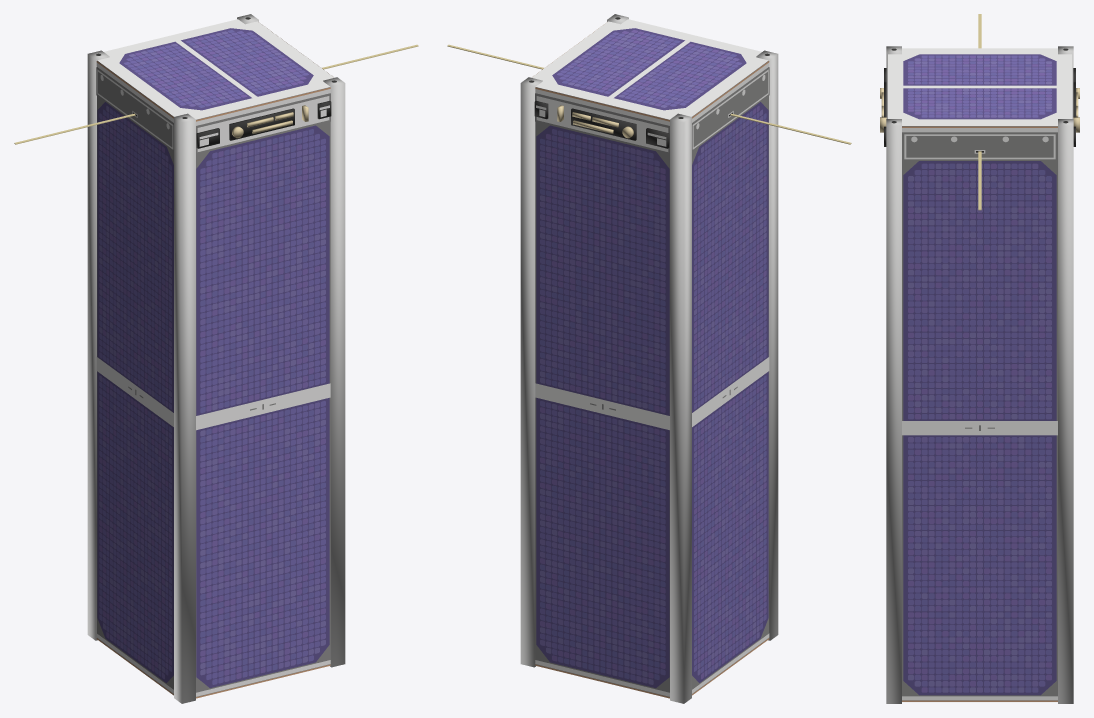
The model's file is 3U_CubeSat.glb.
The picture shows the model from 3 angles, left to right: view 1: azimuth 30°, elevation 25°; view 2: azimuth 150°, elevation 25°; view 3: azimuth 270°, elevation 25°; orthographic projection.
Parts seen in each view (by area): view 1: Face -Y, Face -X, Top end, Corner rail, Corner rail.002, Corner rail.001, Black connector block -Y 2; view 2: Face +Y, Face -X, Top end, Corner rail.001, Corner rail.003, Corner rail, Black connector block +Y 2; view 3: Face +X, Top end, Corner rail.002, Corner rail.003.
Boxes of the visible parts, <box> form: Face -Y: <box>196,87,330,698</box>; Face -X: <box>96,61,173,695</box>; Top end: <box>97,19,334,119</box>; Corner rail: <box>174,113,195,703</box>; Corner rail.002: <box>323,77,345,667</box>; Corner rail.001: <box>87,50,109,640</box>; Black connector block -Y 2: <box>229,108,294,140</box>; Face +Y: <box>535,87,669,698</box>; Face -X: <box>692,61,769,695</box>; Top end: <box>531,19,768,119</box>; Corner rail.001: <box>670,113,691,703</box>; Corner rail.003: <box>520,77,542,667</box>; Corner rail: <box>756,50,778,640</box>; Black connector block +Y 2: <box>571,108,636,140</box>; Face +X: <box>902,126,1057,701</box>; Top end: <box>888,48,1071,125</box>; Corner rail.002: <box>886,119,901,703</box>; Corner rail.003: <box>1058,119,1073,703</box>.
Size of the model in its own units: 0.2468 by 0.3403 by 0.1066.
